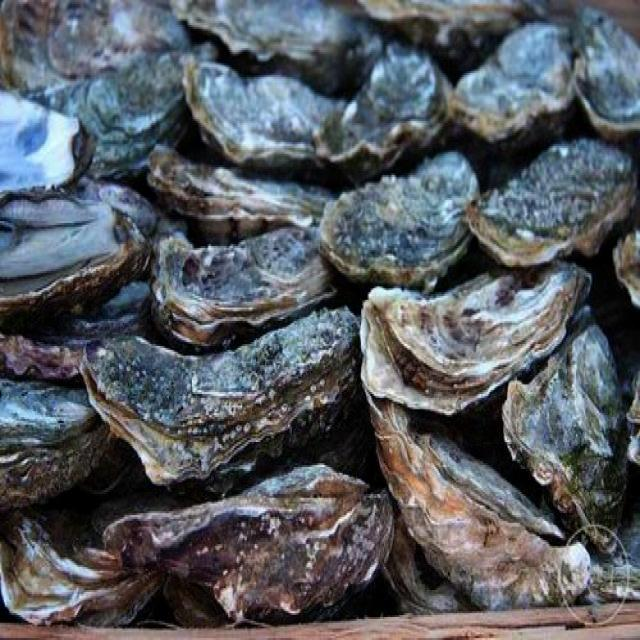Oyster-Closed: (72, 305, 366, 501), (356, 380, 602, 610), (96, 457, 400, 622), (352, 255, 603, 424), (485, 295, 635, 565), (0, 80, 157, 332), (0, 36, 225, 183), (296, 30, 504, 181), (140, 224, 353, 352), (135, 128, 350, 249), (306, 140, 485, 285), (459, 131, 636, 268), (0, 328, 126, 513), (177, 54, 354, 179), (0, 499, 164, 629), (165, 0, 386, 94), (447, 9, 585, 157), (0, 0, 208, 98), (345, 0, 560, 76), (563, 3, 640, 151)
